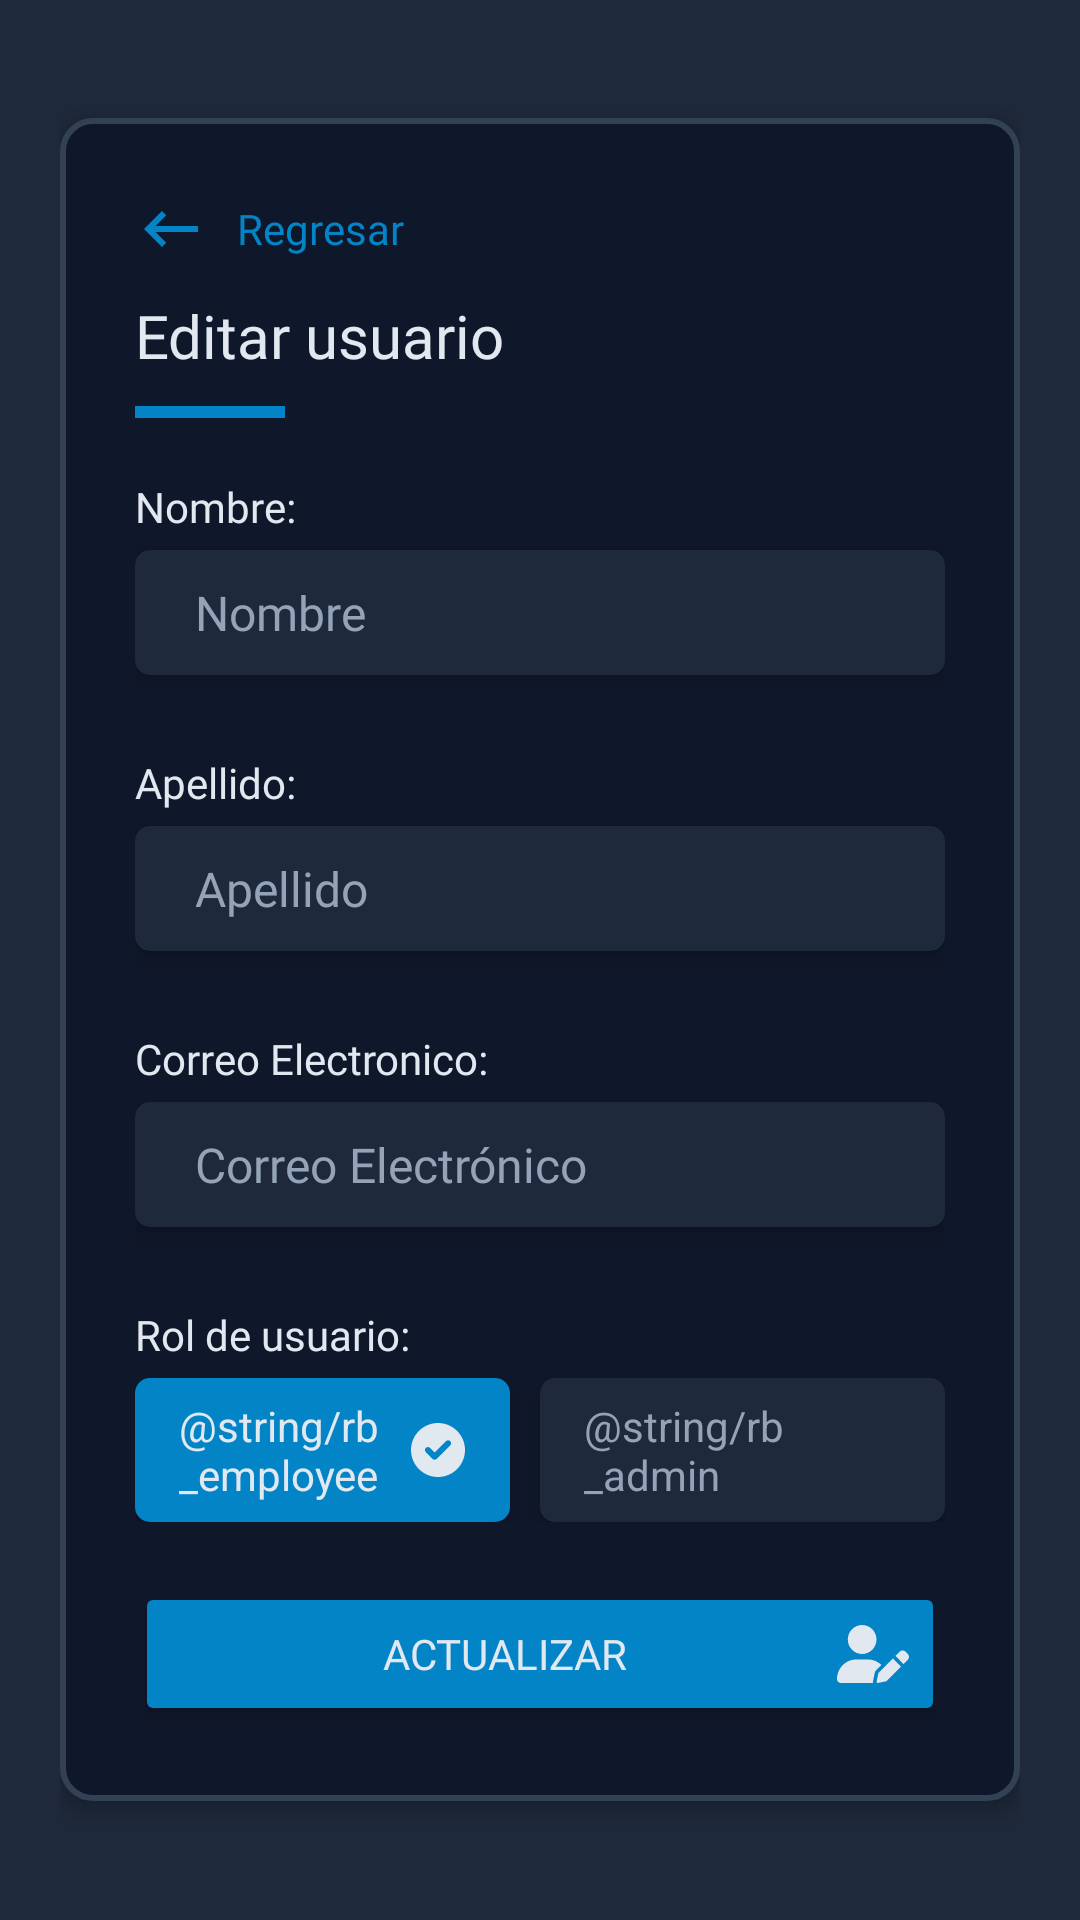

Locate icon controls on the screen. Image size 1080x1920, boxes as (x1, y1, x2, y2).
keyboard backspace: (144, 211, 198, 247)
